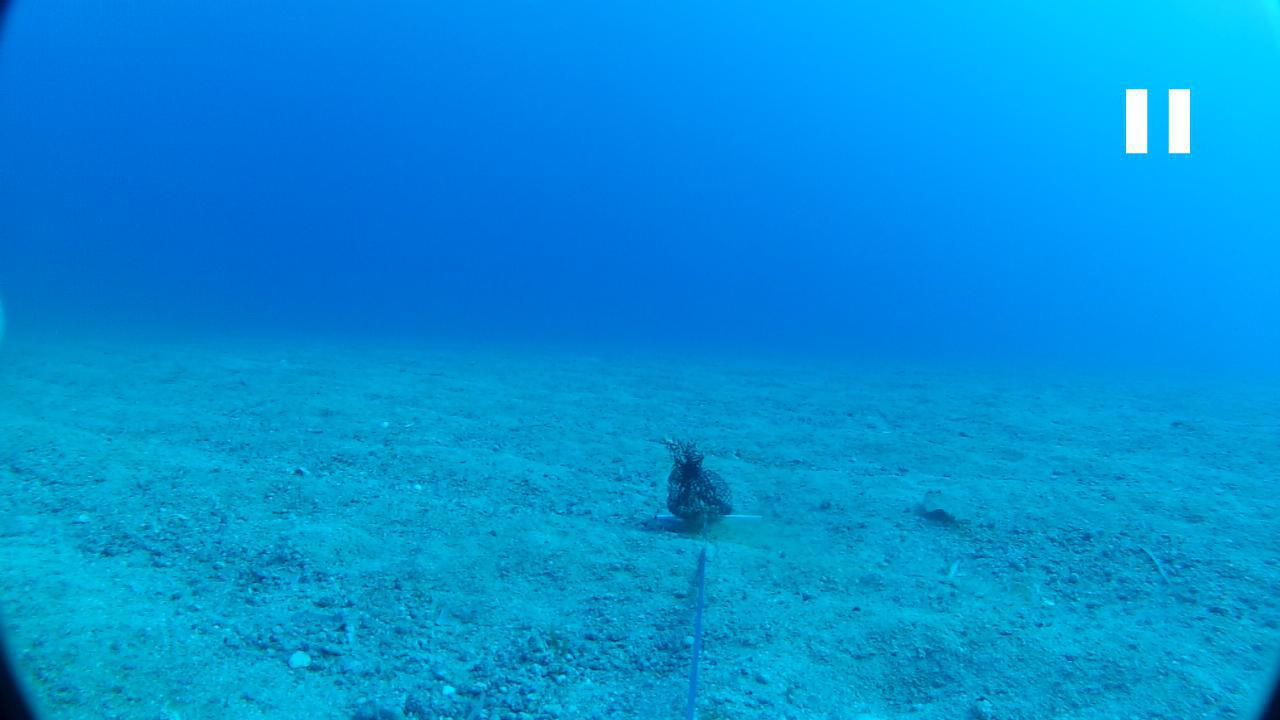bothus: (908, 485, 973, 526)
